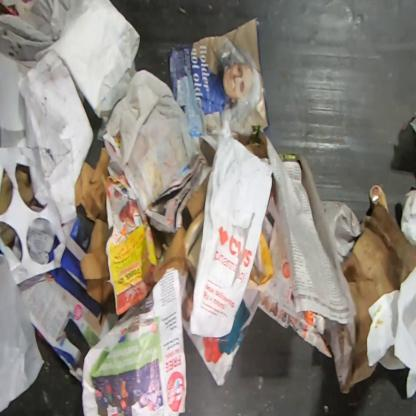cardboard: (370, 184, 388, 214)
